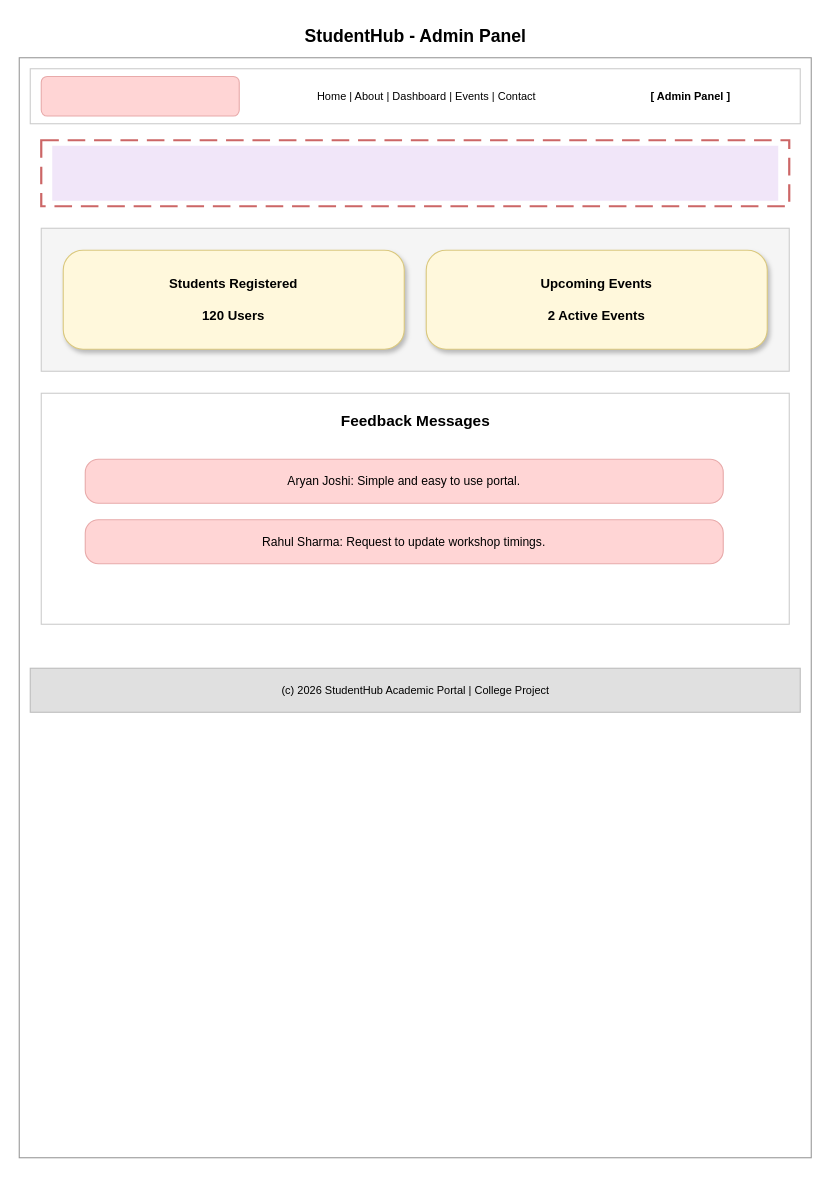
The diagram is 831 pixels wide and 1177 high, and some of its shapes have lost their labels. Here are the shapes that lost their labels. From the top down, the centre of each, then its label:
point 139,95: [ Logo ] StudentHub Admin
point 415,172: Admin Dashboard
